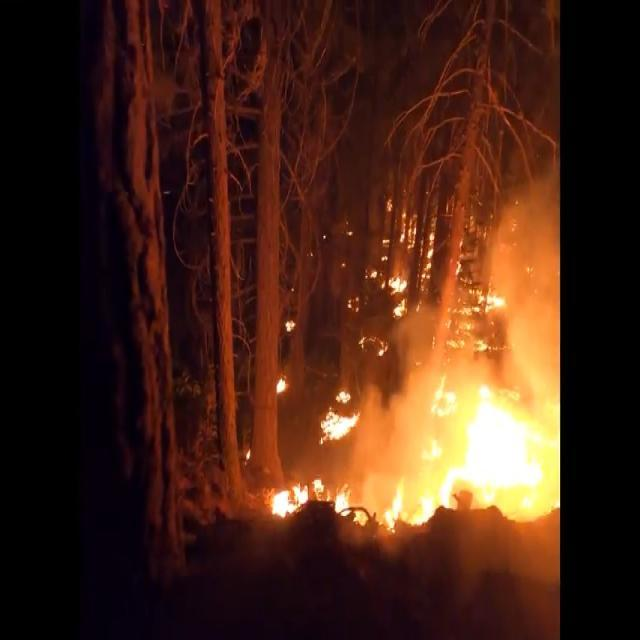Fire: (270, 178, 558, 535)
